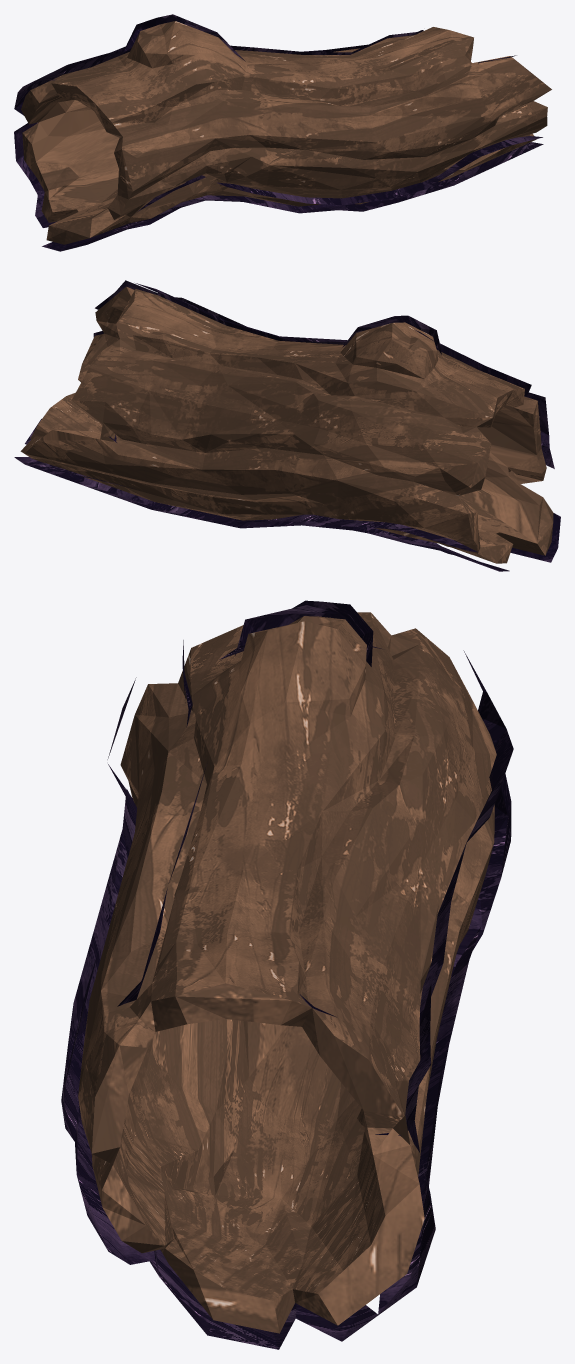
The model's file is polygonalmind-momuspark-023.glb.
3 renders of one model, top to bottom at view 1: azimuth 30°, elevation 25°; view 2: azimuth 150°, elevation 25°; view 3: azimuth 270°, elevation 25°, orthographic. The views are drawn at different scales.
Visible parts, largest first — view 1: Log_01_Art; view 2: Log_01_Art; view 3: Log_01_Art.
Boxes of the visible parts, <box> form: Log_01_Art: <box>14,14,551,251</box>; Log_01_Art: <box>14,280,560,571</box>; Log_01_Art: <box>61,600,513,1349</box>.
Size of what is drawn, in the model's own units: 3.27 by 1.46 by 1.33.
2 materials, 2 textured.
